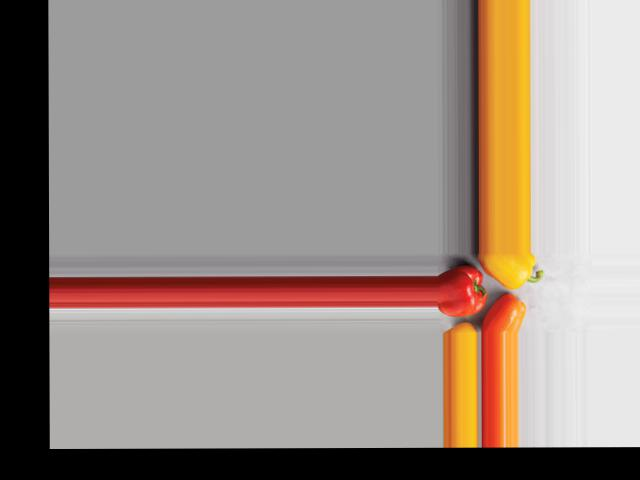bell_pepper: (438, 261, 485, 316)
